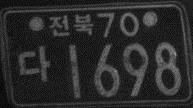0: (119, 11, 140, 37)
1: (65, 42, 83, 101)
6: (92, 41, 121, 98)
7: (95, 10, 116, 39)
8: (153, 40, 182, 97)
9: (120, 40, 149, 98)
다: (16, 44, 51, 83)
전북_O: (48, 12, 94, 37)
